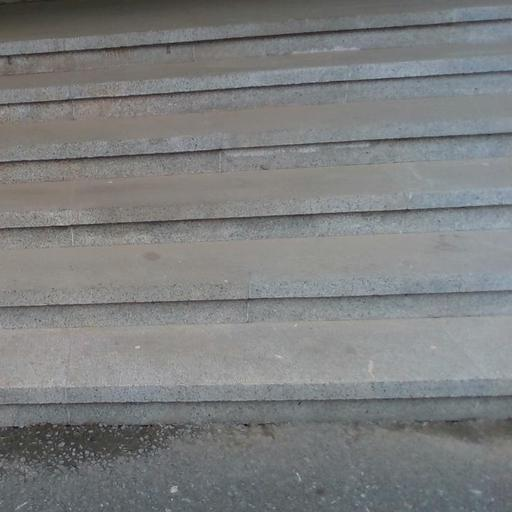stairs: (0, 0, 511, 424)
